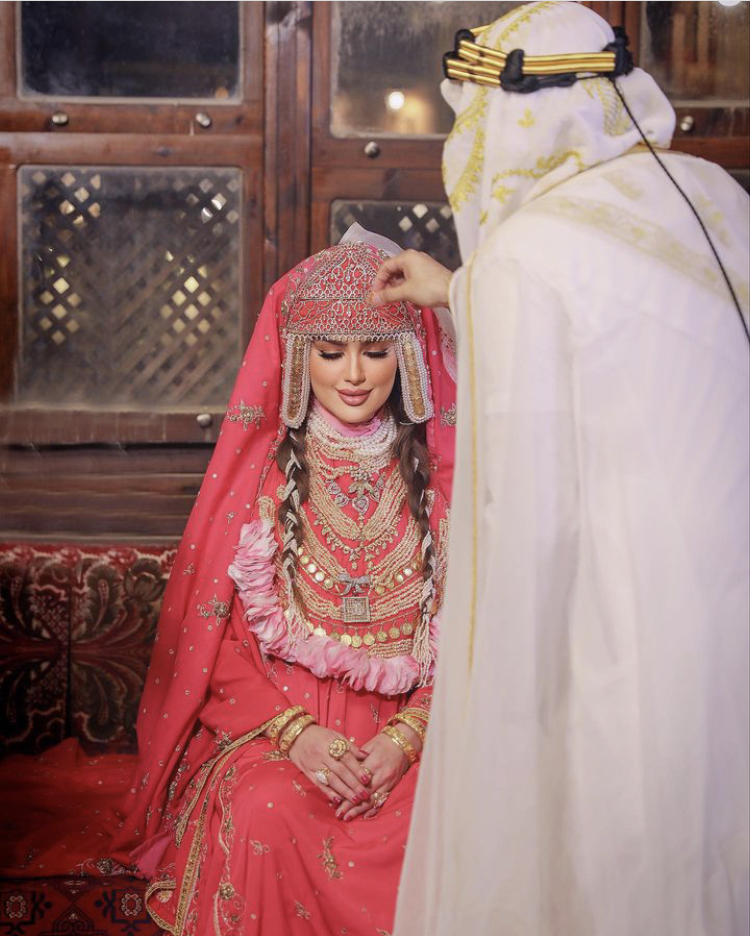Saudi_Founding_Day: (366, 2, 750, 936), (111, 215, 460, 936)
